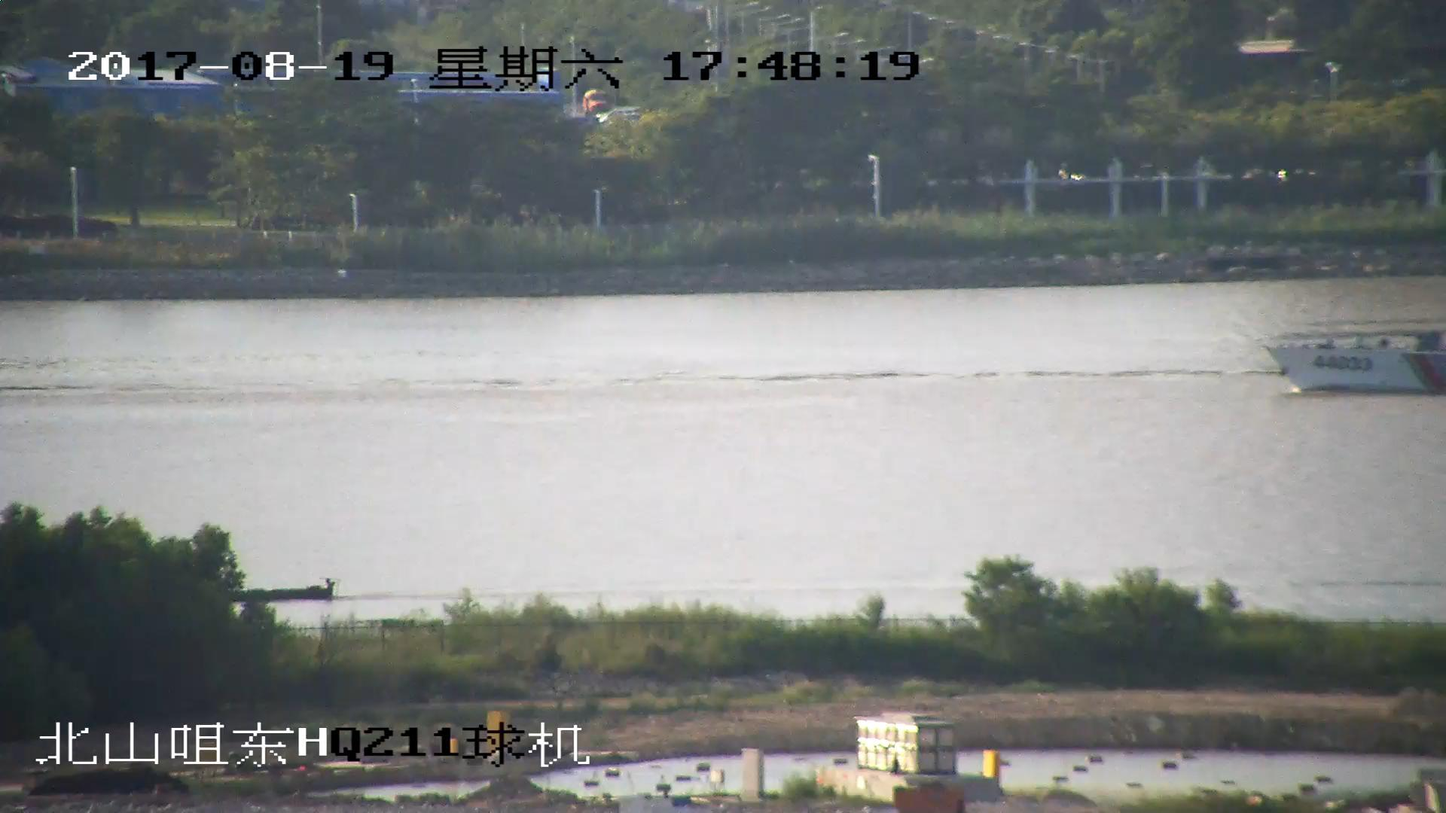passenger ship: (1257, 321, 1445, 393)
